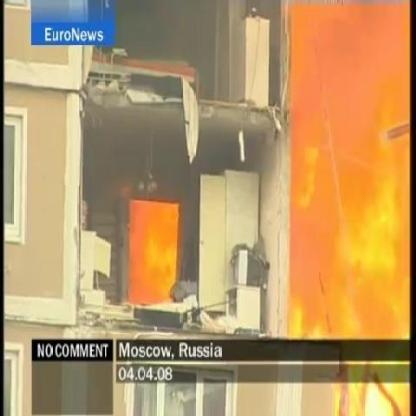fire: (290, 0, 412, 340), (130, 198, 178, 309)
